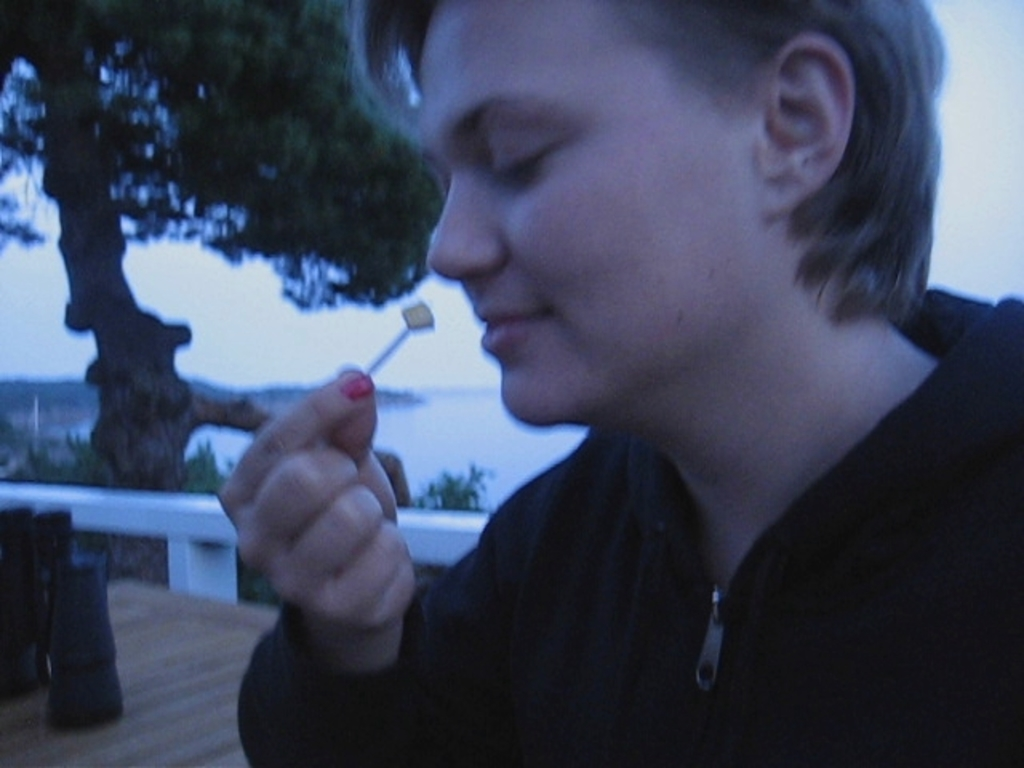Human_hand: (179, 400, 429, 664)
